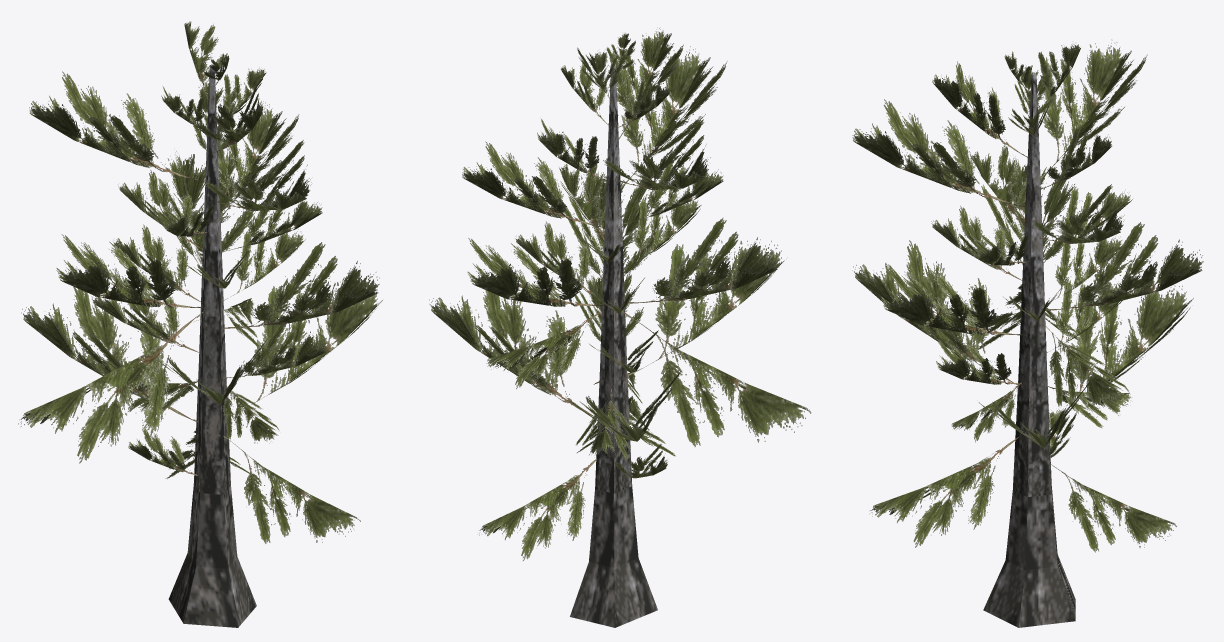
Rendered from pineTree3LOW.fbx.
3 renders of one model, left to right at view 1: azimuth 30°, elevation 25°; view 2: azimuth 150°, elevation 25°; view 3: azimuth 270°, elevation 25°, orthographic.
Visible parts, largest first — view 1: smallPine; view 2: smallPine; view 3: smallPine.
Part boxes in pixels (x1,y1,x2,y2): smallPine: (18,21,382,627); smallPine: (429,27,811,627); smallPine: (852,39,1203,627).
Size of the model in its own units: 60.76 by 50.66 by 88.2.
2 materials, 2 textured.
